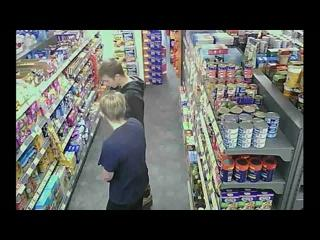Normal: (97, 92, 153, 210), (98, 58, 146, 125)
